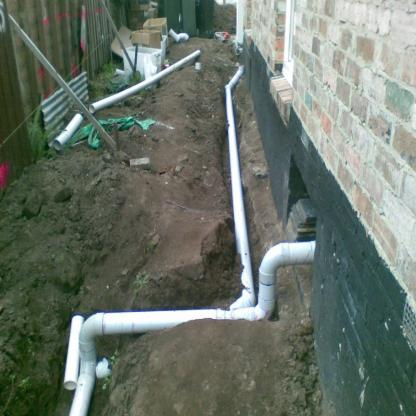PVC: (69, 67, 316, 415), (89, 50, 201, 113), (65, 319, 84, 391), (55, 113, 81, 151)
